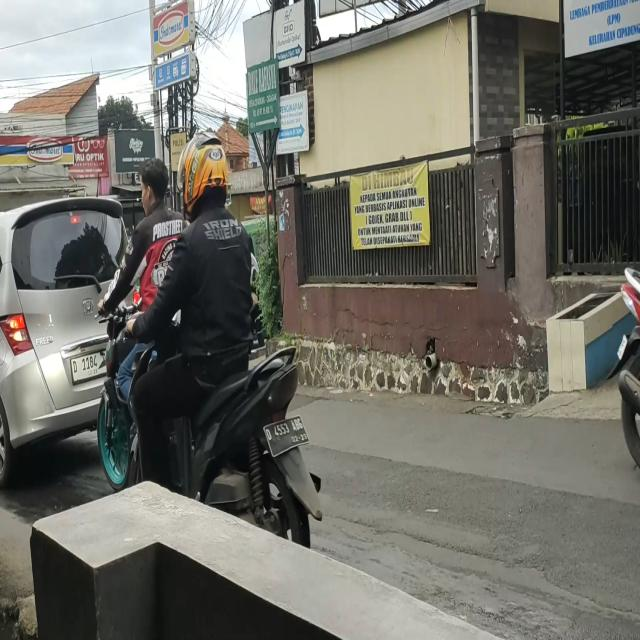helmet: (180, 133, 230, 220)
no-helmet: (140, 161, 166, 215)
